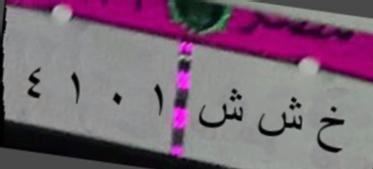0: (105, 80, 134, 118)
1: (144, 78, 172, 126), (63, 61, 88, 108)
4: (21, 59, 46, 109)
khaa: (308, 103, 354, 161)
sheen: (196, 86, 246, 138), (257, 95, 305, 147)
